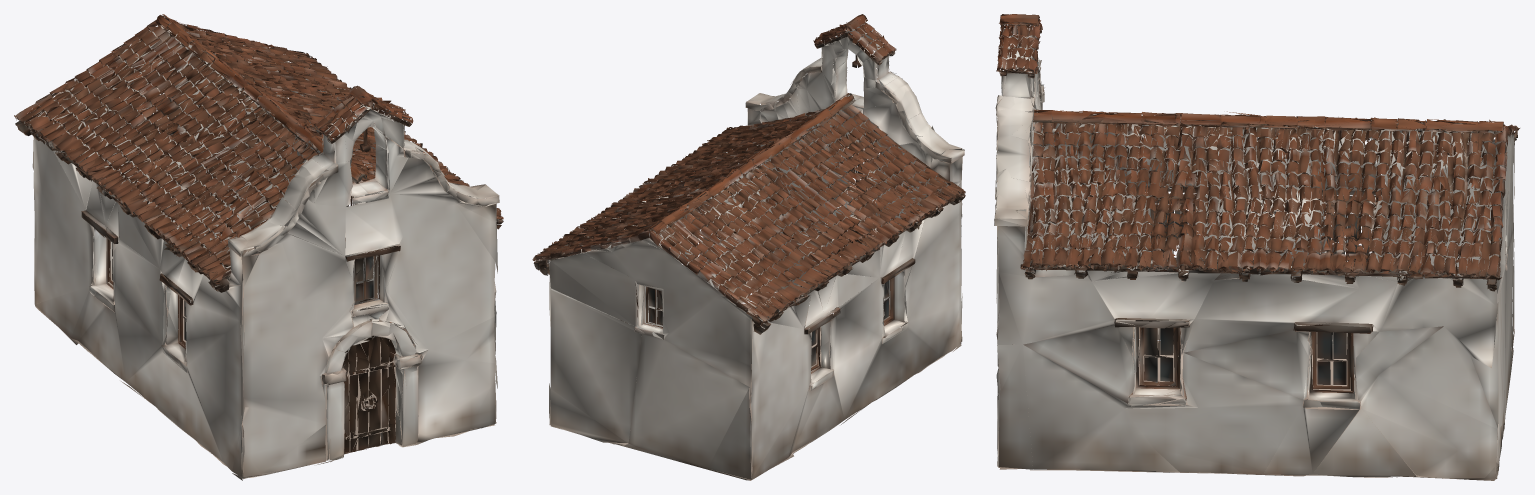
Rendered from chapel.glb.
The picture shows the model from 3 angles, left to right: view 1: azimuth 30°, elevation 25°; view 2: azimuth 150°, elevation 25°; view 3: azimuth 270°, elevation 25°; orthographic projection. The views are drawn at different scales.
Parts seen in each view (by area): view 1: LO.001; view 2: LO.001; view 3: LO.001.
Part boxes in pixels (x1=…): LO.001: x1=14, y1=14, x2=503, y2=480; LO.001: x1=532, y1=14, x2=965, y2=480; LO.001: x1=994, y1=14, x2=1519, y2=480.
Bounding box in the file's own units: 1.43 × 1.61 × 1.96.
1 material, 1 textured.
